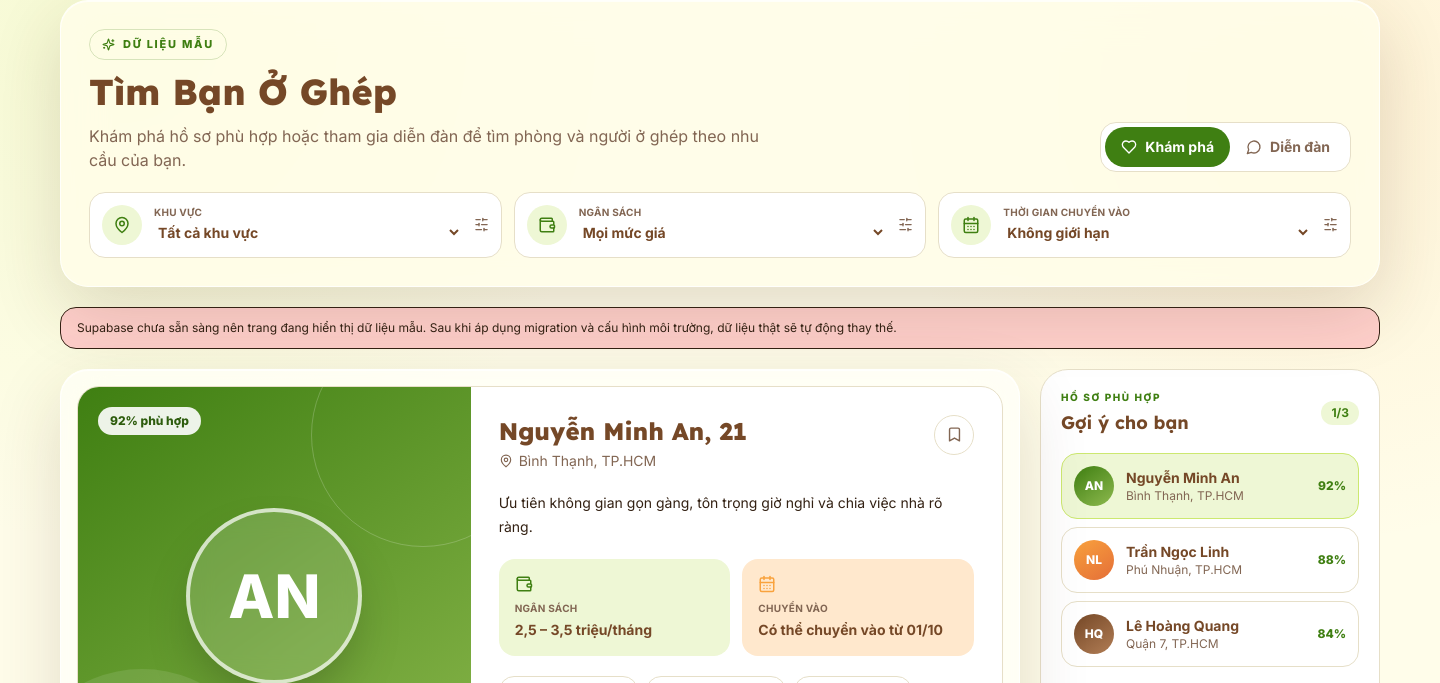
Test: RoommateExperience › switches from discovery to the roommate forum
Expected: the text "Dữ liệu mẫu" is shown, [89,29,227,60]
Step 1. Click the button "Diễn đàn" → click(1288, 146), box [1230,126,1346,166]
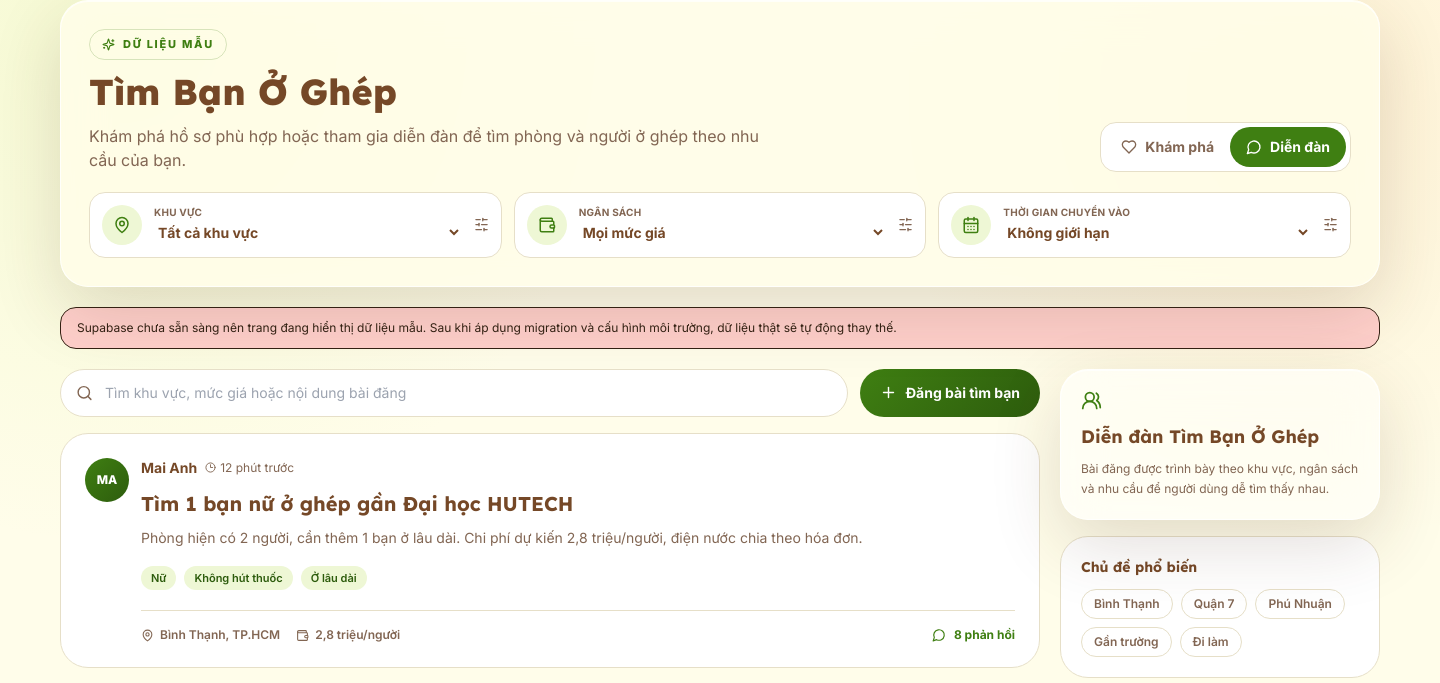
Now the heading "Diễn đàn Tìm Bạn Ở Ghép" is shown, box [1081,422,1359,450]
Now the heading "Tìm 1 bạn nữ ở ghép gần Đại học HUTECH" is shown, box [141,490,573,516]
Now the button "Đăng bài tìm bạn" is shown, box [860,368,1040,416]
